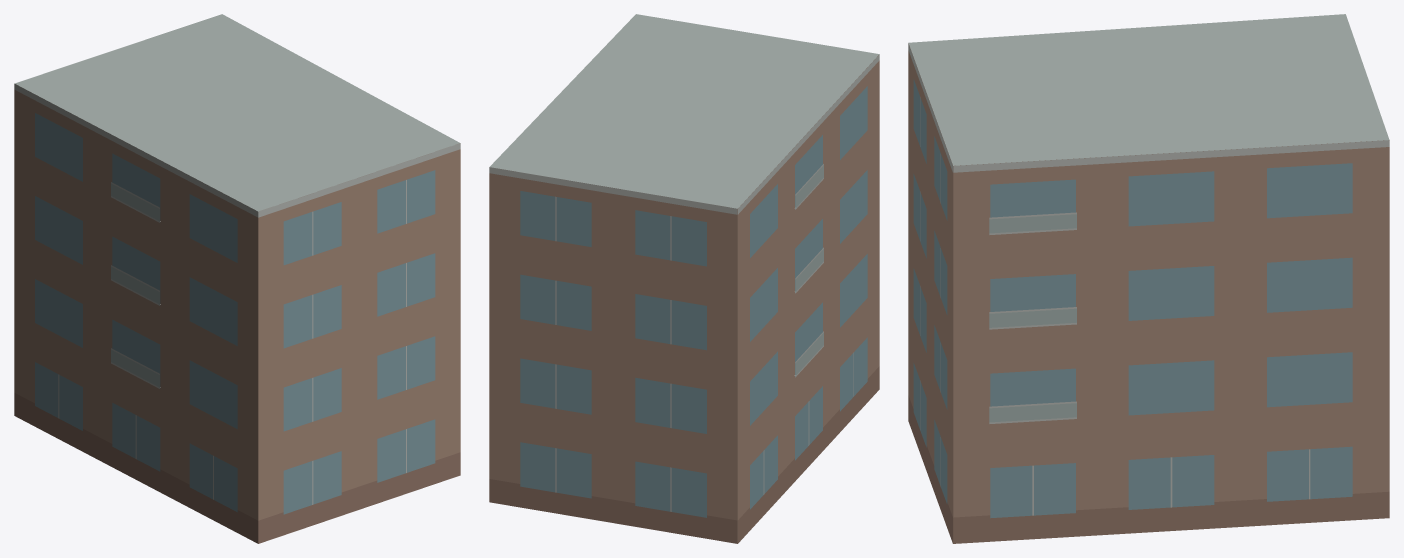
The model's file is survey-upis-32574613.glb.
The picture shows the model from 3 angles, left to right: view 1: azimuth 30°, elevation 25°; view 2: azimuth 150°, elevation 25°; view 3: azimuth 270°, elevation 25°; orthographic projection. The views are drawn at different scales.
Parts seen in each view (by area): view 1: survey-upis-32574613.tmp; view 2: survey-upis-32574613.tmp; view 3: survey-upis-32574613.tmp.
Boxes of the visible parts, x1,y1,x2,y2 form: survey-upis-32574613.tmp: [14, 14, 460, 543]; survey-upis-32574613.tmp: [489, 14, 879, 543]; survey-upis-32574613.tmp: [908, 14, 1389, 543].
Bounding box in the file's own units: 11.55 × 13.4 × 15.47.
